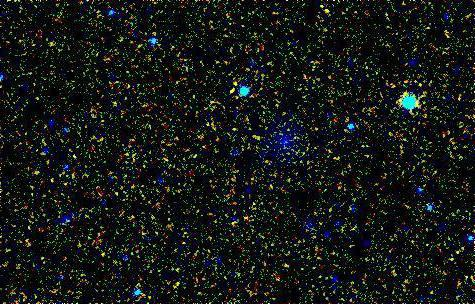star: (312, 0, 342, 20)
